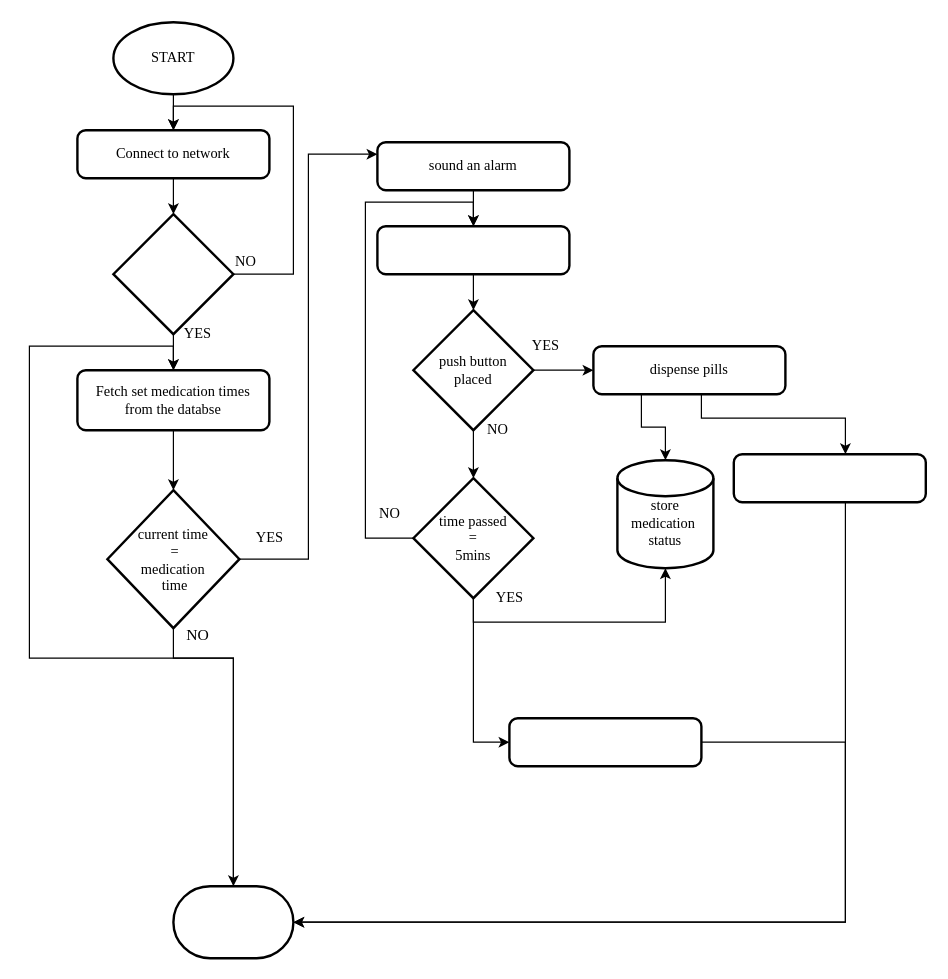
The diagram is 948 pixels wide and 979 high, and some of its shapes have lost their labels. The shapes that lost their labels are listed below. From the top down, each one's box as (x1, y1, x2, y2) in pixels, then its label:
(376, 224, 570, 275): Read data from inputs
(112, 212, 234, 335): network connected
(732, 452, 926, 503): send c onfirmation email
(508, 716, 702, 767): send reminder email
(172, 884, 294, 959): END
